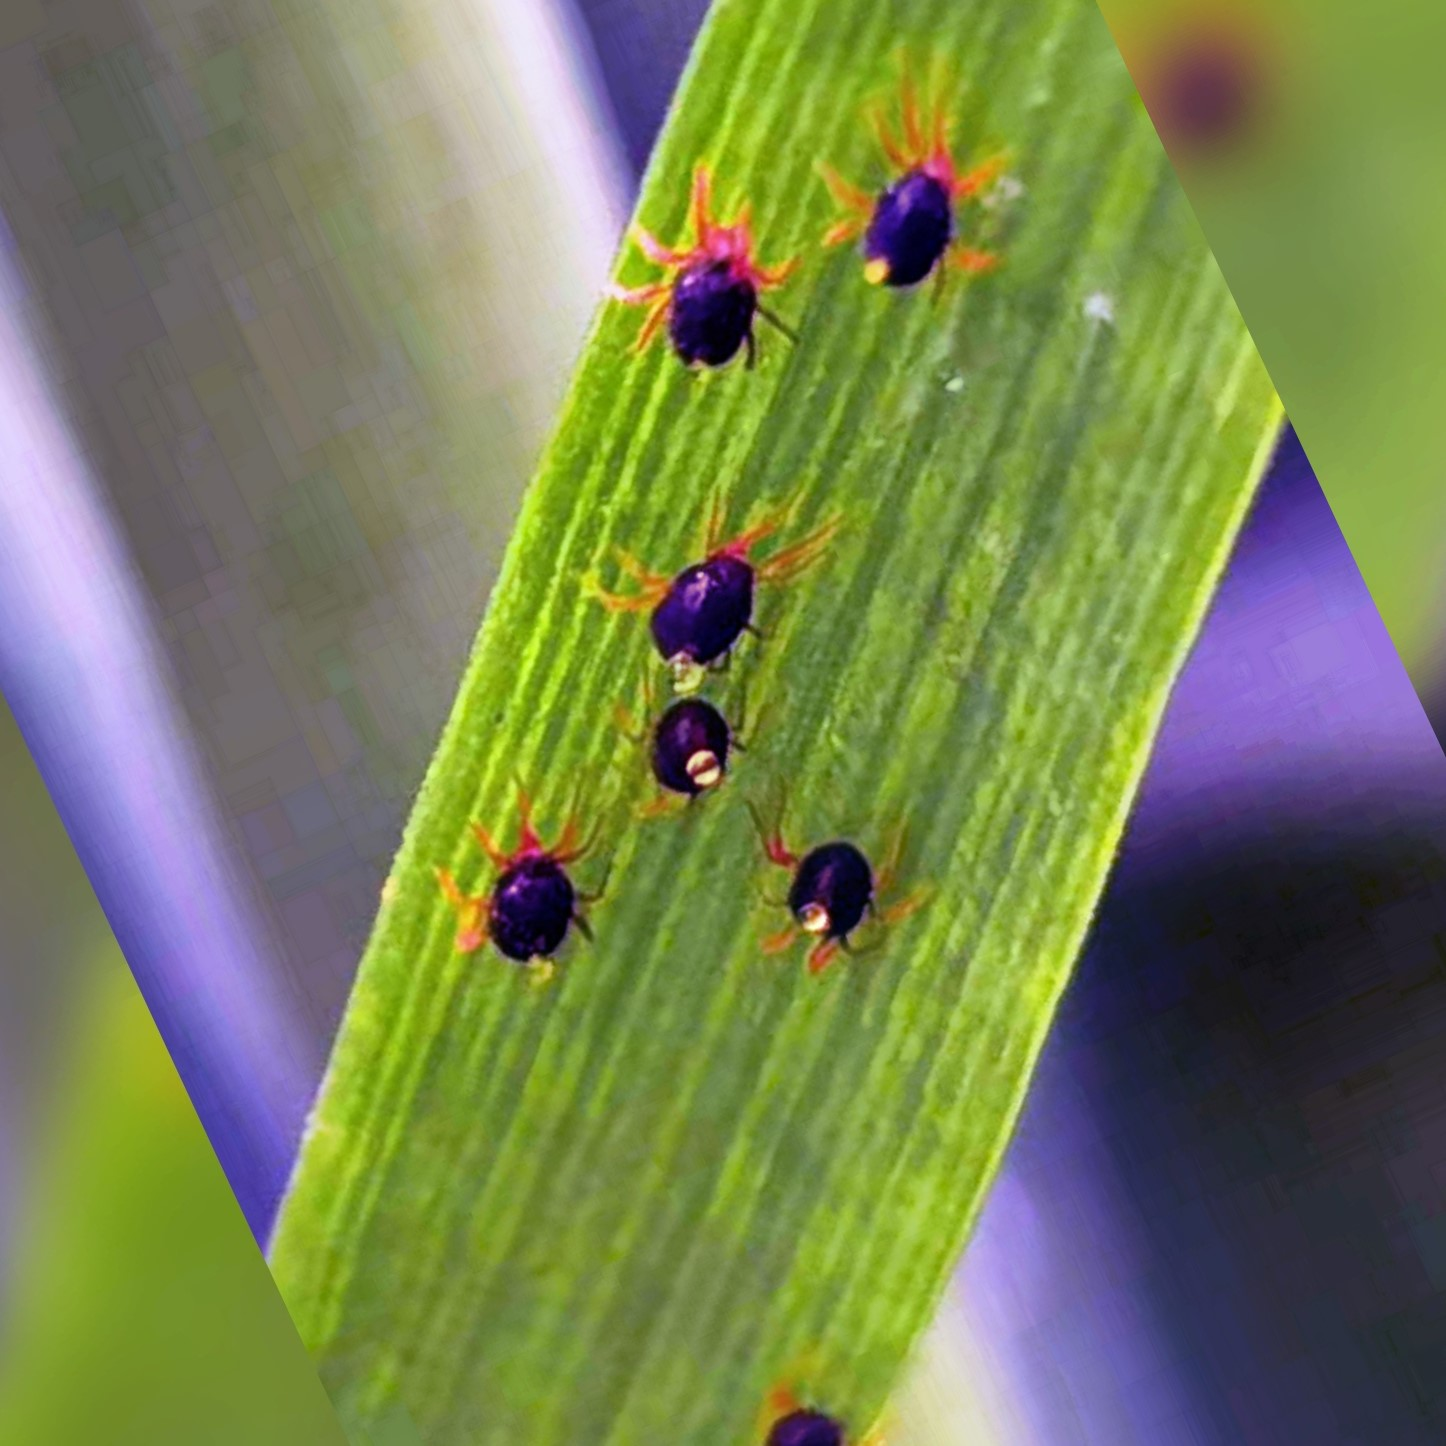Wheat Red Spider: (559, 475, 855, 699), (581, 163, 808, 395), (412, 775, 618, 988)
